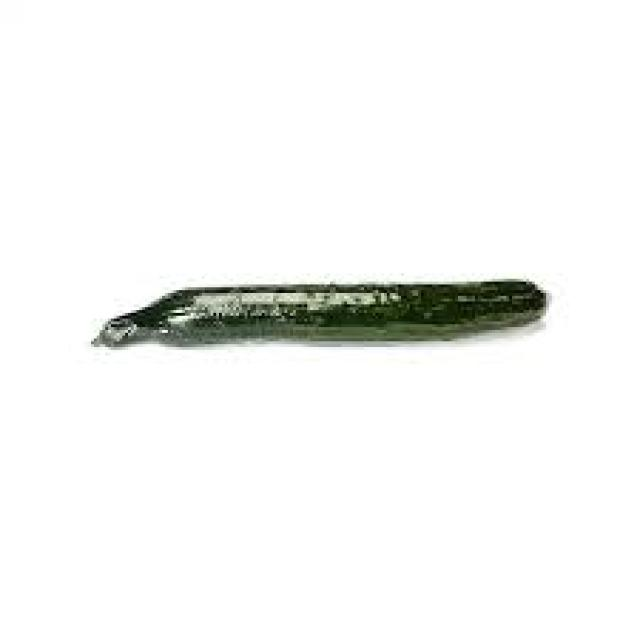cucumber: (88, 276, 549, 347)
